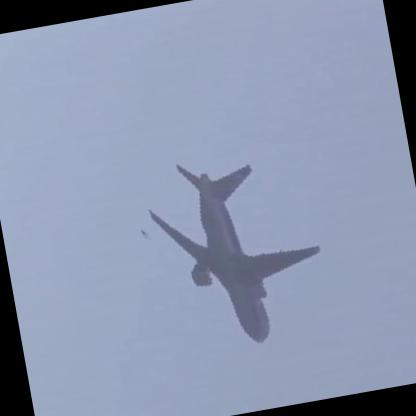plane: (116, 133, 345, 366)
